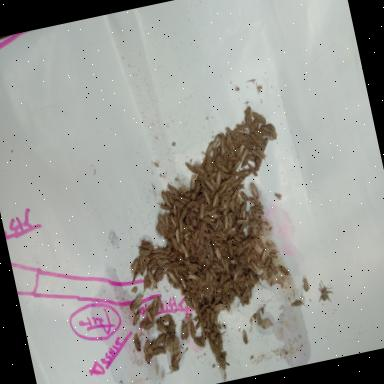pbw: (188, 178, 204, 200), (240, 105, 254, 130), (255, 142, 268, 166), (248, 178, 262, 200), (130, 308, 144, 330), (233, 238, 251, 255), (289, 296, 308, 312), (208, 130, 223, 150), (144, 338, 159, 358), (250, 108, 266, 126), (248, 266, 264, 284), (225, 130, 236, 156), (157, 218, 170, 240), (128, 258, 142, 277), (203, 154, 215, 176), (146, 266, 158, 288), (216, 131, 228, 153), (220, 296, 233, 316), (215, 160, 232, 175), (178, 318, 189, 340), (166, 182, 181, 198), (212, 329, 228, 344), (198, 174, 210, 194), (160, 188, 172, 208), (128, 295, 144, 310), (169, 350, 184, 366), (166, 266, 179, 284), (196, 201, 208, 220), (202, 140, 216, 156), (246, 194, 262, 208), (192, 160, 206, 176), (208, 338, 219, 358), (238, 200, 250, 218), (156, 318, 168, 336), (141, 322, 156, 336), (231, 264, 244, 280), (238, 286, 251, 302), (219, 174, 236, 186), (212, 220, 224, 237), (183, 294, 195, 311), (132, 332, 142, 352), (150, 294, 160, 314), (168, 228, 178, 248), (182, 320, 192, 340), (222, 130, 232, 150), (206, 208, 220, 222), (238, 146, 252, 160), (140, 236, 154, 250), (177, 205, 190, 220), (175, 193, 191, 205), (212, 286, 224, 302), (230, 174, 246, 186), (258, 136, 270, 152), (250, 258, 262, 274), (258, 246, 270, 262), (247, 161, 258, 178), (250, 207, 261, 224), (230, 186, 243, 200), (214, 238, 227, 252), (248, 118, 261, 132), (260, 256, 273, 270), (200, 254, 213, 268), (212, 301, 230, 311), (268, 122, 278, 140), (178, 240, 188, 258), (213, 169, 223, 187), (220, 194, 232, 209), (221, 134, 230, 154), (184, 258, 196, 273), (185, 198, 200, 210), (226, 125, 237, 141), (198, 154, 209, 170), (141, 275, 151, 292), (250, 146, 262, 160), (244, 248, 256, 262), (184, 160, 196, 174), (210, 192, 222, 206), (278, 262, 290, 276), (233, 244, 245, 258), (188, 321, 197, 339), (234, 216, 250, 226), (300, 276, 310, 292), (236, 126, 252, 136), (209, 176, 219, 192), (176, 272, 186, 288), (198, 220, 208, 236), (204, 238, 212, 258), (188, 174, 198, 190), (137, 256, 145, 276), (156, 212, 166, 228), (209, 150, 219, 166), (216, 182, 228, 195), (162, 243, 174, 256), (240, 236, 252, 249), (178, 268, 190, 281), (250, 205, 264, 216), (202, 176, 213, 190), (229, 257, 243, 268), (246, 260, 257, 274), (253, 128, 264, 142), (221, 256, 230, 273), (222, 214, 230, 233), (268, 260, 278, 275), (254, 156, 264, 171), (237, 168, 252, 178), (190, 228, 200, 243), (238, 156, 250, 168), (158, 200, 170, 212), (152, 266, 164, 278), (189, 240, 197, 258), (144, 306, 153, 322), (140, 256, 148, 274), (174, 198, 186, 210), (212, 152, 225, 163), (196, 277, 207, 290), (186, 278, 197, 291), (192, 261, 202, 275), (208, 266, 218, 280), (207, 240, 214, 260), (152, 345, 166, 355), (161, 332, 171, 346), (230, 270, 240, 284), (238, 254, 248, 268), (211, 276, 221, 290), (178, 217, 186, 234), (218, 269, 226, 286), (193, 336, 204, 348), (230, 233, 242, 244), (204, 305, 216, 316), (226, 286, 237, 298), (219, 354, 230, 366), (188, 272, 201, 282), (238, 189, 248, 202), (218, 245, 228, 258), (226, 240, 234, 256), (174, 228, 182, 244), (199, 324, 207, 340), (156, 294, 164, 310), (202, 188, 210, 204), (162, 212, 170, 228), (170, 212, 178, 228), (211, 310, 219, 326), (234, 284, 242, 300), (166, 188, 174, 204), (198, 235, 206, 251), (148, 251, 164, 259), (256, 214, 264, 230), (200, 312, 208, 328), (226, 214, 235, 228), (138, 247, 152, 256), (166, 318, 175, 332), (258, 127, 269, 138), (248, 131, 258, 143), (213, 260, 223, 272), (226, 290, 236, 302), (194, 317, 204, 329), (248, 271, 256, 286), (222, 278, 234, 288), (203, 271, 211, 286), (214, 245, 222, 260), (232, 159, 242, 171), (148, 256, 160, 266), (246, 151, 256, 163), (236, 222, 246, 234), (173, 214, 181, 229), (138, 318, 150, 328), (235, 264, 245, 276), (154, 336, 164, 348), (201, 230, 213, 240), (141, 338, 151, 350), (209, 322, 219, 334), (198, 302, 210, 312), (202, 215, 215, 224), (225, 153, 238, 162), (152, 247, 166, 255), (196, 308, 204, 322), (204, 314, 212, 328), (188, 294, 196, 308), (256, 234, 264, 248), (194, 234, 202, 248), (207, 272, 215, 286), (265, 266, 273, 280), (230, 134, 238, 148), (242, 244, 252, 255), (237, 132, 248, 142), (185, 220, 195, 231), (156, 256, 168, 265), (241, 140, 253, 149), (236, 144, 245, 156), (260, 123, 272, 132), (175, 263, 187, 272), (168, 363, 180, 372), (213, 233, 224, 242), (245, 290, 252, 304), (177, 279, 183, 295), (235, 122, 247, 130), (246, 218, 258, 226), (222, 150, 234, 158), (204, 172, 216, 180), (158, 314, 170, 322), (229, 200, 236, 213), (213, 238, 222, 248), (176, 184, 187, 192), (256, 225, 264, 236), (253, 204, 264, 212), (242, 330, 249, 342), (225, 158, 232, 170), (222, 207, 231, 216), (214, 144, 222, 154), (237, 232, 247, 240), (172, 201, 178, 214), (149, 264, 160, 271), (270, 250, 278, 259), (198, 288, 204, 300), (208, 312, 214, 324), (203, 326, 212, 334), (226, 226, 236, 233), (255, 314, 262, 324), (171, 260, 180, 266), (184, 231, 190, 237)
